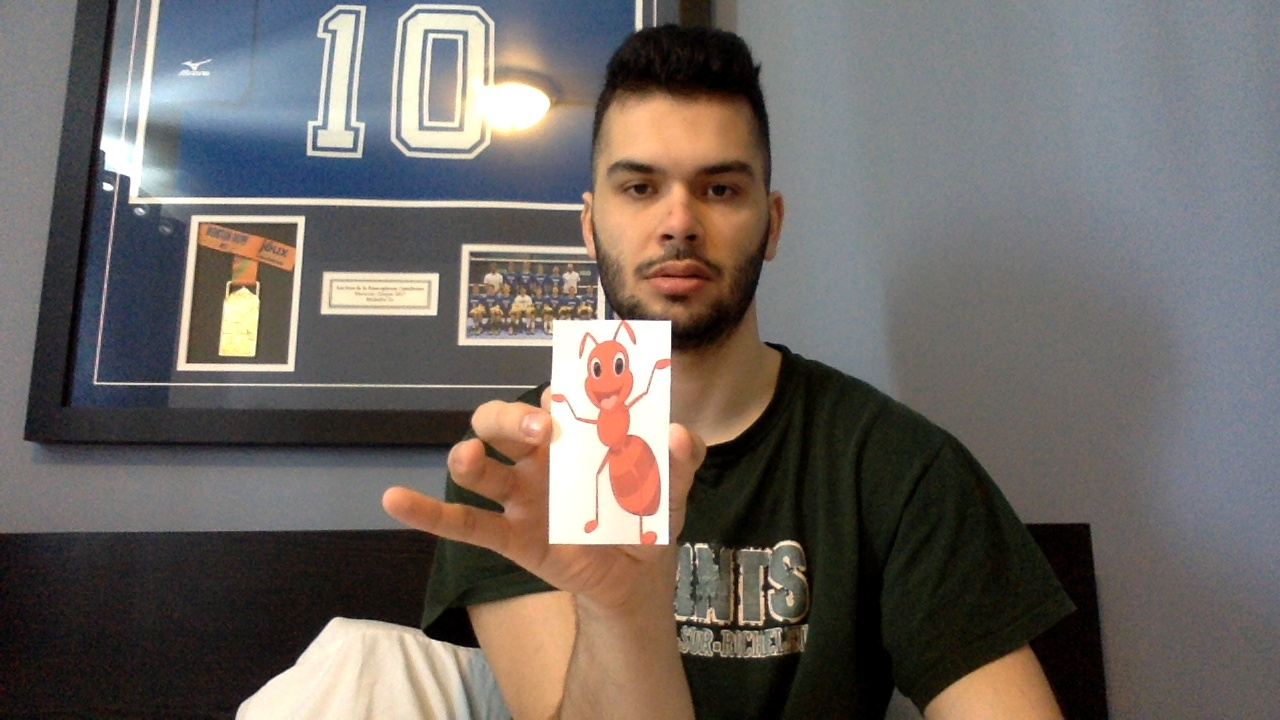Happy: (550, 318, 671, 545)
